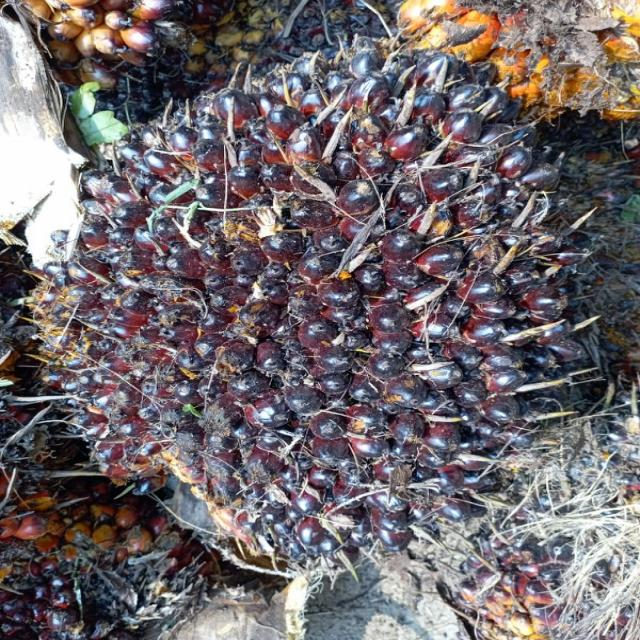fraksi 00: (58, 40, 606, 573)
